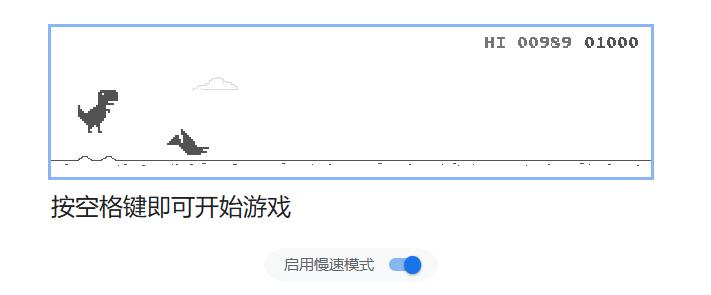bird: (166, 128, 208, 156)
dino: (75, 89, 118, 134)
